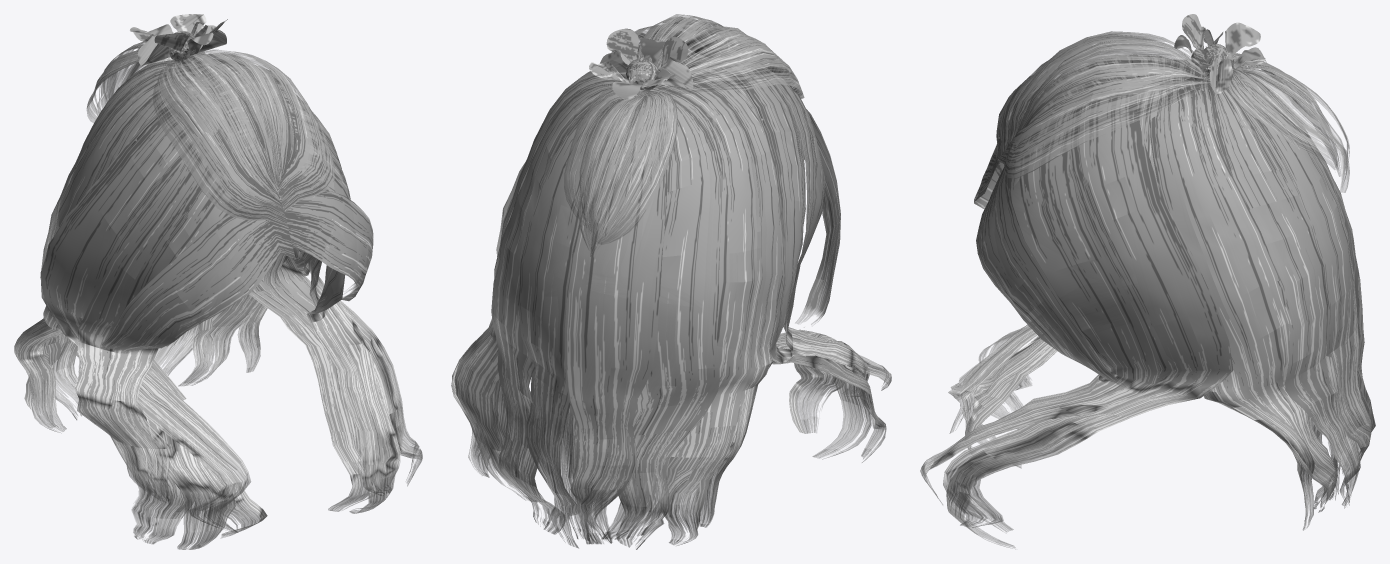
File: daz_hair_twin_braids.glb
The picture shows the model from 3 angles, left to right: view 1: azimuth 30°, elevation 25°; view 2: azimuth 150°, elevation 25°; view 3: azimuth 270°, elevation 25°; orthographic projection. The views are drawn at different scales.
Visible parts, largest first — view 1: daz_hair_twin_braids; view 2: daz_hair_twin_braids; view 3: daz_hair_twin_braids.
Boxes of the visible parts, left/top/right/bottom form: daz_hair_twin_braids: left=14, top=14, right=422, bottom=549; daz_hair_twin_braids: left=451, top=14, right=891, bottom=549; daz_hair_twin_braids: left=920, top=14, right=1375, bottom=549.
Bounding box in the file's own units: 0.2191 × 0.3064 × 0.2648.
Materials: 1 (1 with a texture image).
